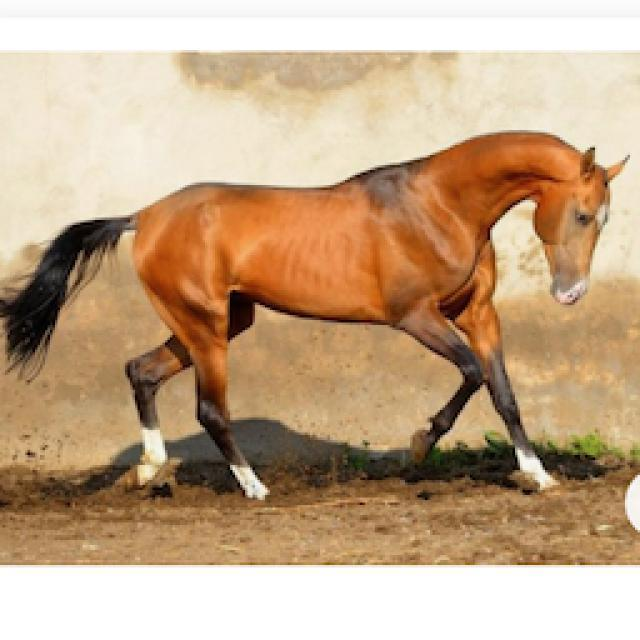Horse: (0, 122, 635, 506)
